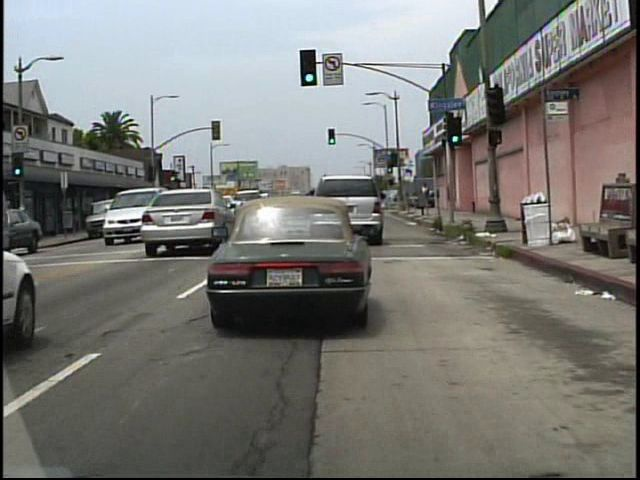person: (417, 182, 431, 211)
